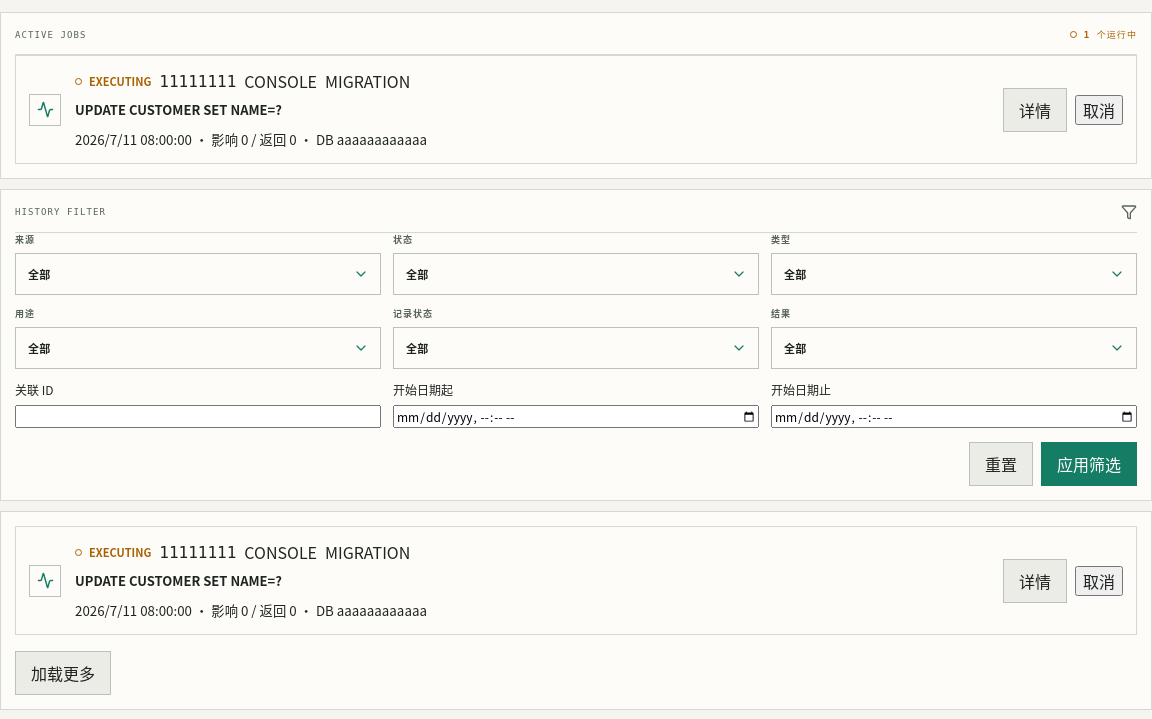
Scenario: paginates without duplicate executions and reports stale stream
The image size is (1152, 719).
(page scrolled)
Click the button "加载更多" at (63, 673), box [15,651,111,695]
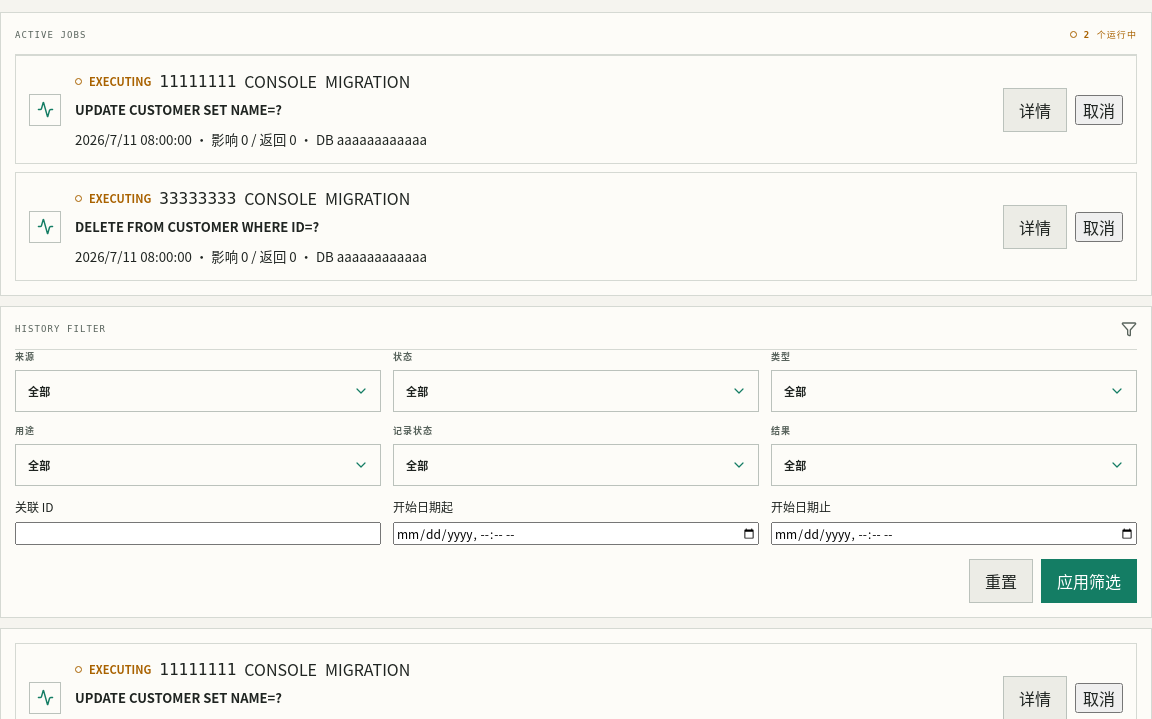
Expected: the text "DELETE FROM CUSTOMER WHERE ID=?" is shown 2 times
Expected: the text "UPDATE CUSTOMER SET NAME=?" is shown 2 times, [75,100,282,119]; [75,688,282,707]
